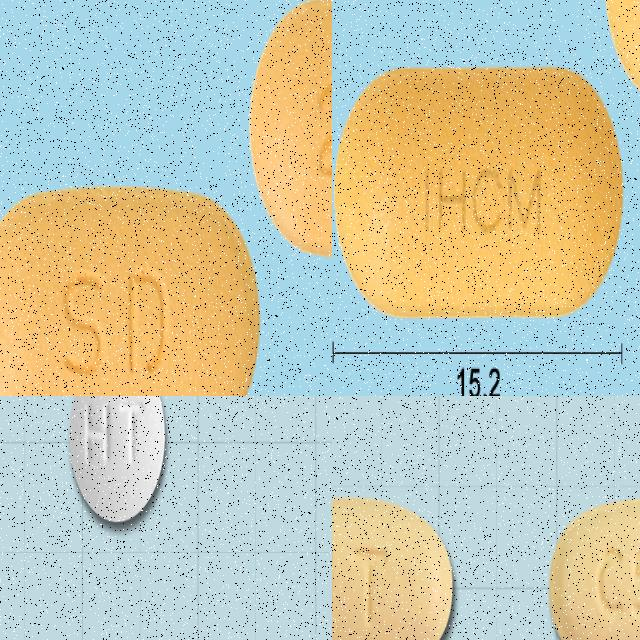Clabio - 500mg: (0, 180, 264, 396), (248, 0, 332, 269)
Claritin: (333, 67, 624, 320)
Claxin: (332, 493, 455, 640), (547, 492, 640, 640)
Craproxin: (67, 396, 165, 523)
